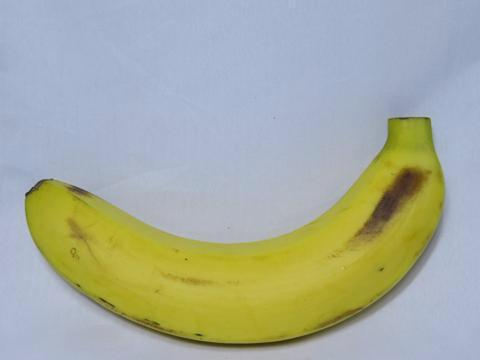freshripe: (17, 106, 454, 359)
